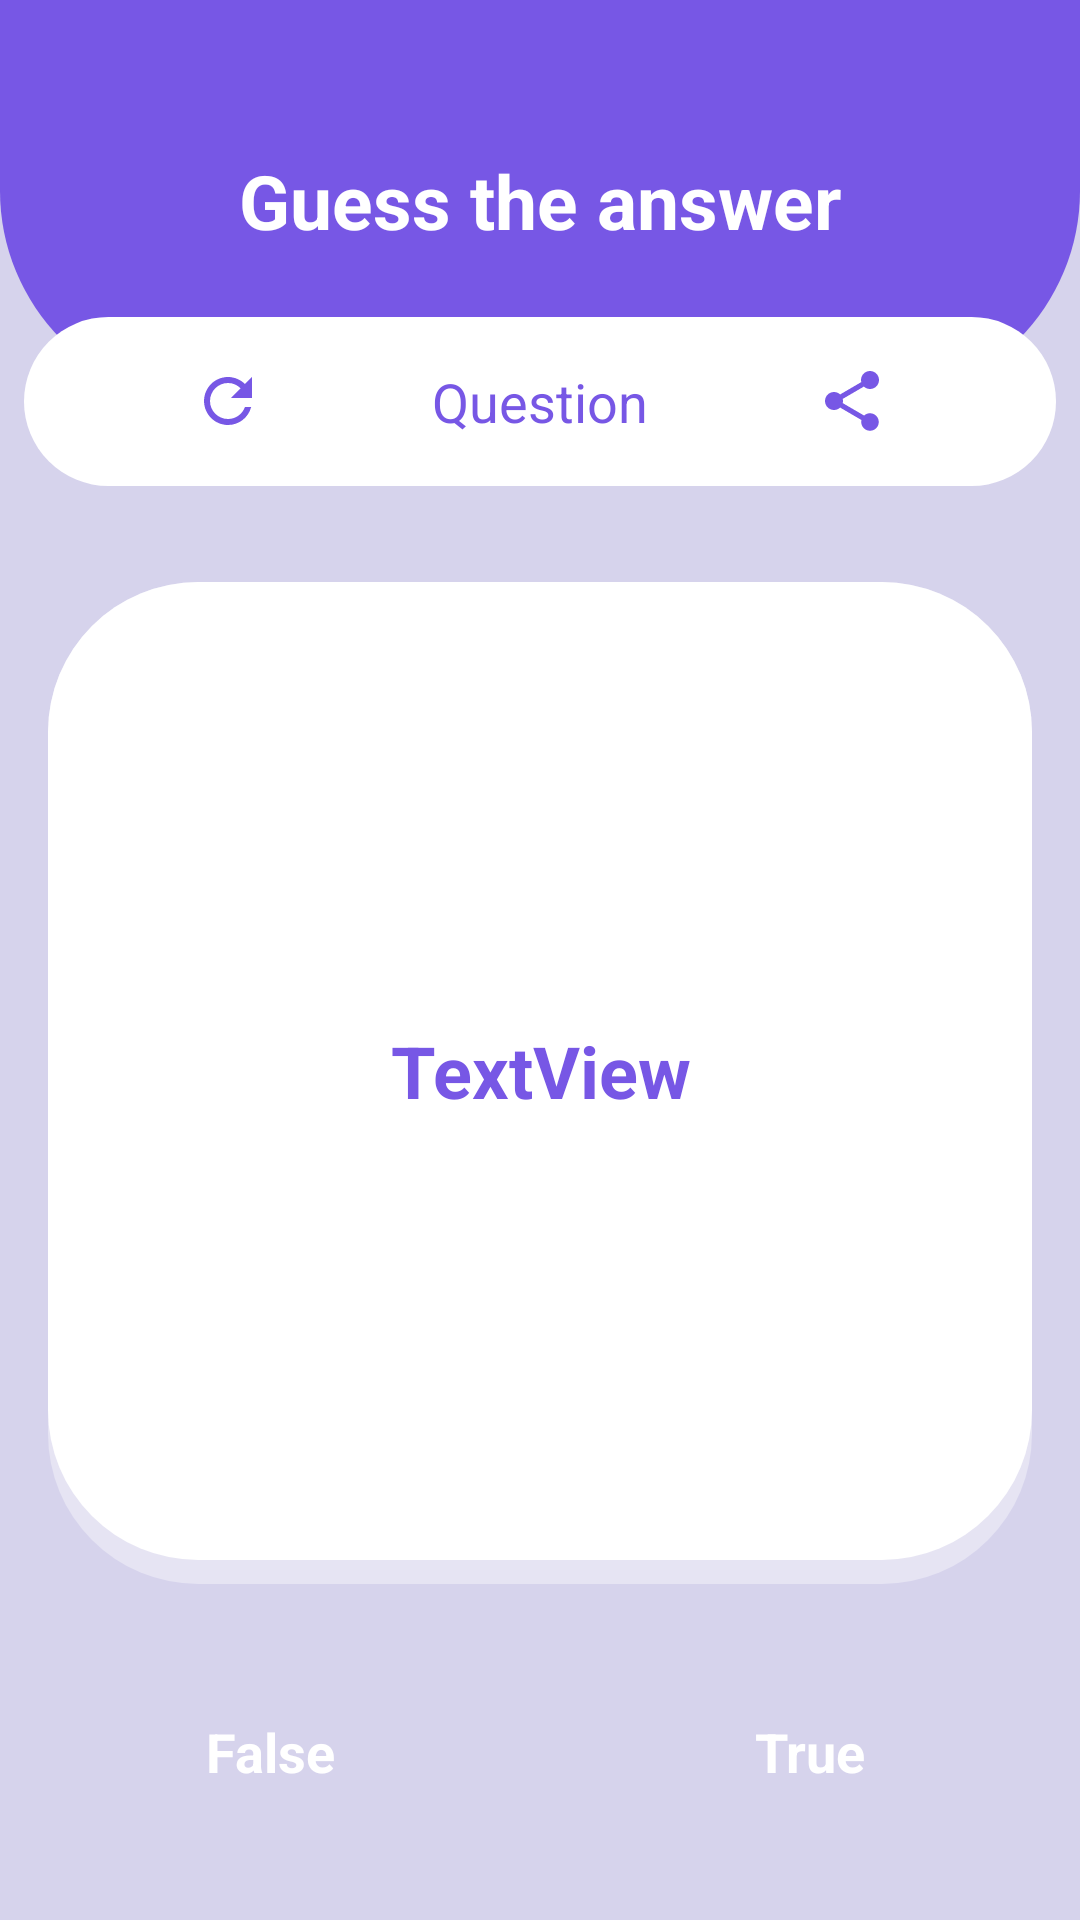

Icons on this 1080 × 1920 Android screen, each with the point to tap as point (x, y):
refresh: point (228, 401)
share: point (852, 401)
